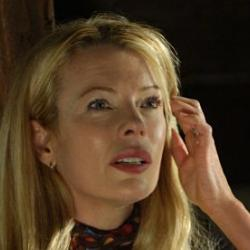face: (6, 17, 210, 241)
